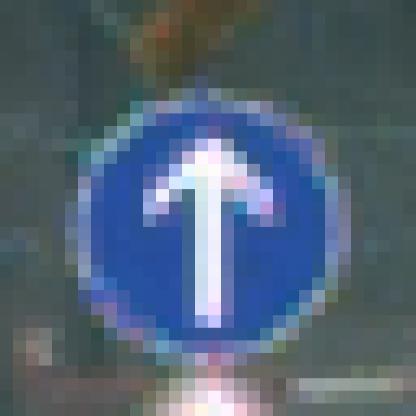AheadOnly: (66, 77, 352, 354)
